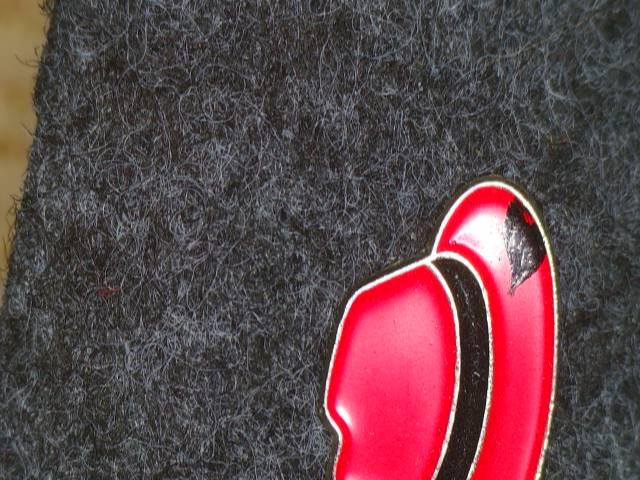Red-Hat: (284, 150, 595, 480)
Scratch: (478, 185, 565, 307)
